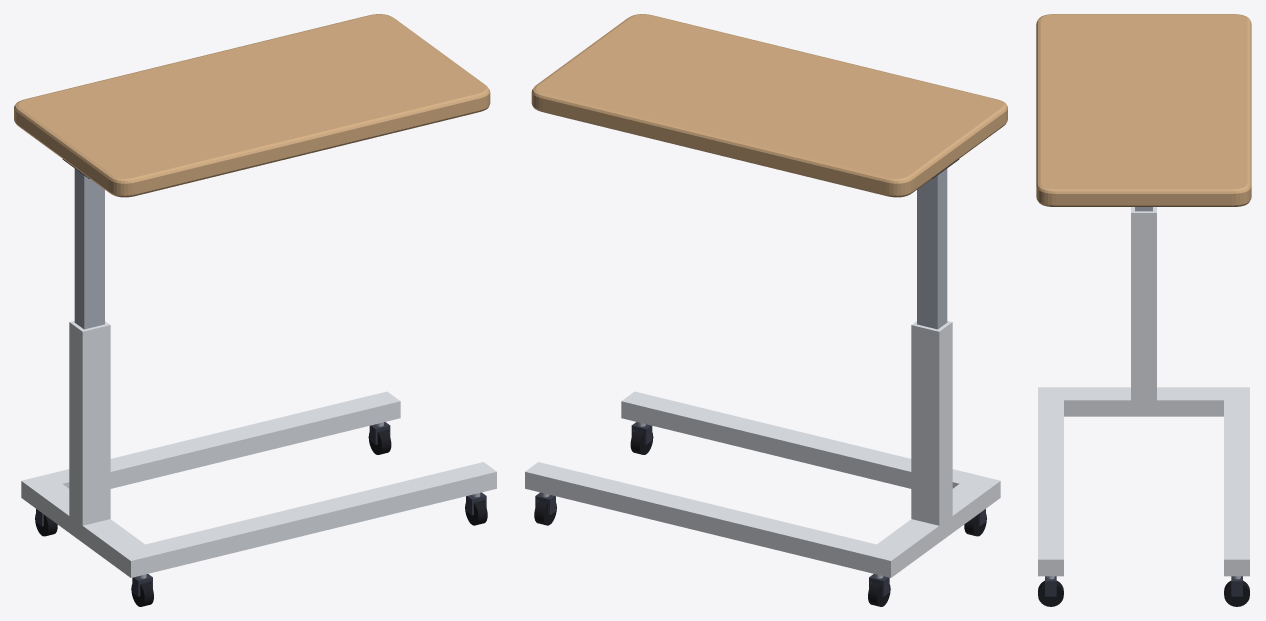
The model's file is hos-005.glb.
3 renders of one model, left to right at view 1: azimuth 30°, elevation 25°; view 2: azimuth 150°, elevation 25°; view 3: azimuth 270°, elevation 25°, orthographic. The views are drawn at different scales.
Parts seen in each view (by area): view 1: beech, bed_frame, steel, rubber, dark_steel; view 2: beech, bed_frame, steel, rubber, dark_steel; view 3: beech, bed_frame, rubber, dark_steel.
Part boxes in pixels (left/top/right/bottom): beech: left=14, top=14, right=490, bottom=197; bed_frame: left=21, top=321, right=496, bottom=577; steel: left=74, top=168, right=480, bottom=578; rubber: left=35, top=430, right=487, bottom=606; dark_steel: left=36, top=159, right=486, bottom=596; beech: left=531, top=14, right=1007, bottom=197; bed_frame: left=525, top=321, right=1000, bottom=577; steel: left=541, top=168, right=947, bottom=578; rubber: left=534, top=430, right=986, bottom=606; dark_steel: left=535, top=159, right=985, bottom=596; beech: left=1036, top=14, right=1251, bottom=206; bed_frame: left=1038, top=207, right=1249, bottom=576; rubber: left=1038, top=580, right=1249, bottom=606; dark_steel: left=1045, top=576, right=1242, bottom=596.
Size of the model in its own units: 0.818 by 0.8963 by 0.416.
